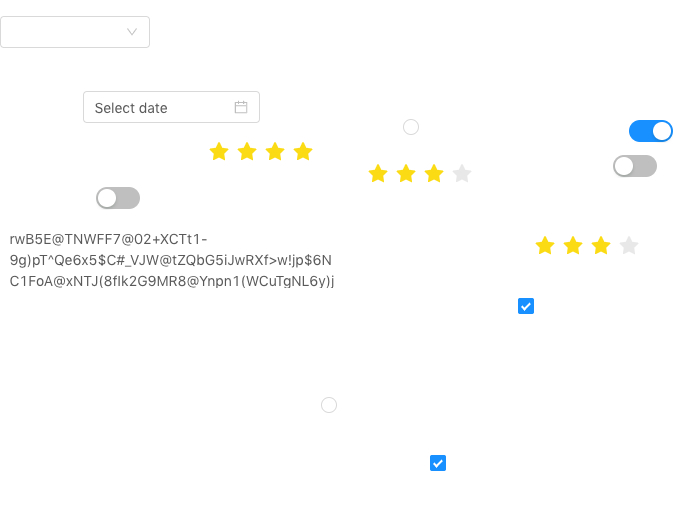Checkbox: (518, 295, 534, 316), (430, 452, 446, 473)
DatePicker: (83, 91, 260, 123)
Radio: (403, 116, 419, 136), (321, 394, 337, 414)
Rate: (535, 229, 655, 261), (368, 157, 488, 189), (209, 135, 329, 167)
Select: (0, 16, 150, 48)
Switch: (629, 119, 673, 143), (96, 186, 140, 210), (613, 154, 657, 178)
Text: (10, 228, 337, 288)
